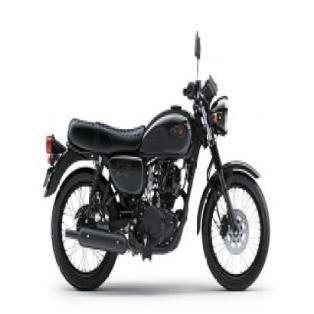Motocicleta: (37, 29, 273, 296)
